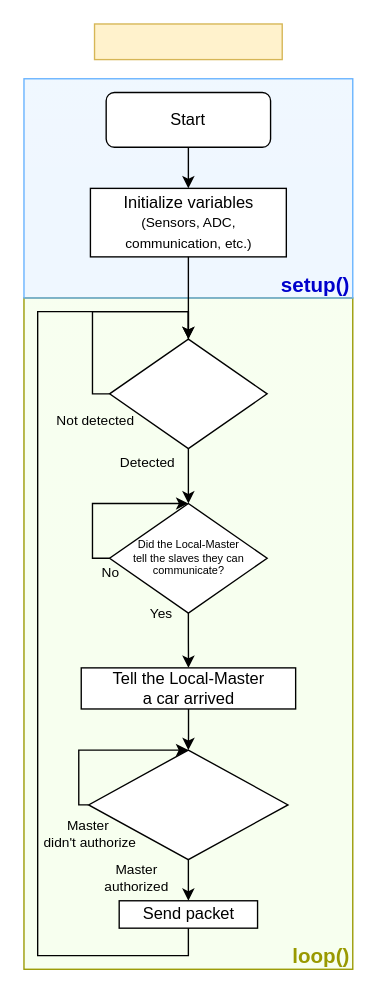
This 377x993 diagram has some shape labels left out. Here are the shapes that lost their labels. From the top down, the centre of each, then its label:
At (187,41): "Algorithm".
At (187,393): "Waiting for a car".
At (187,804): "Wait for the Local-Master to allow the slave to send a packet".
